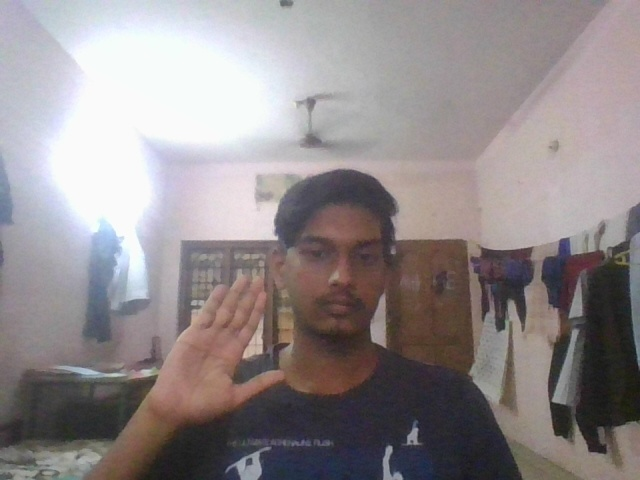hello: (150, 274, 289, 420)
